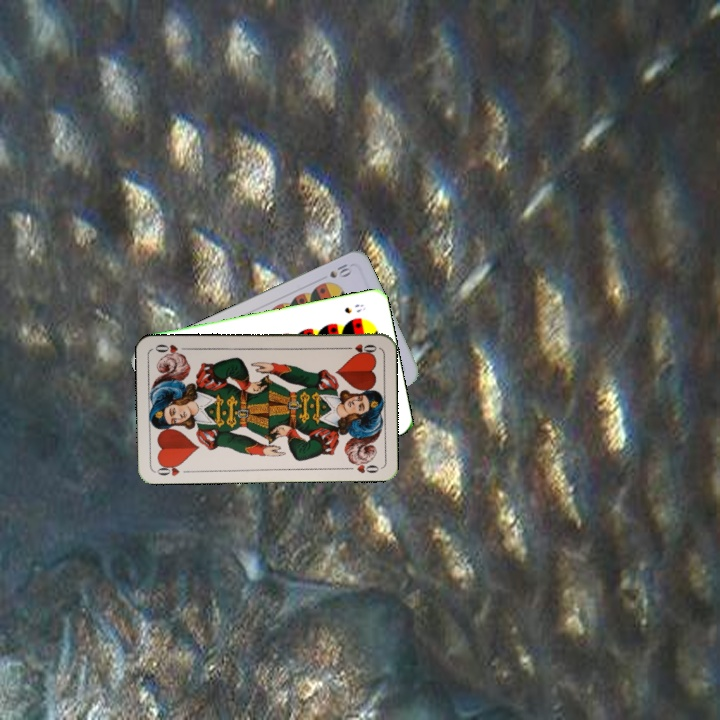HO: (339, 340, 379, 356), (152, 459, 184, 478)
S10: (326, 260, 354, 281)
S8: (340, 300, 368, 316)
